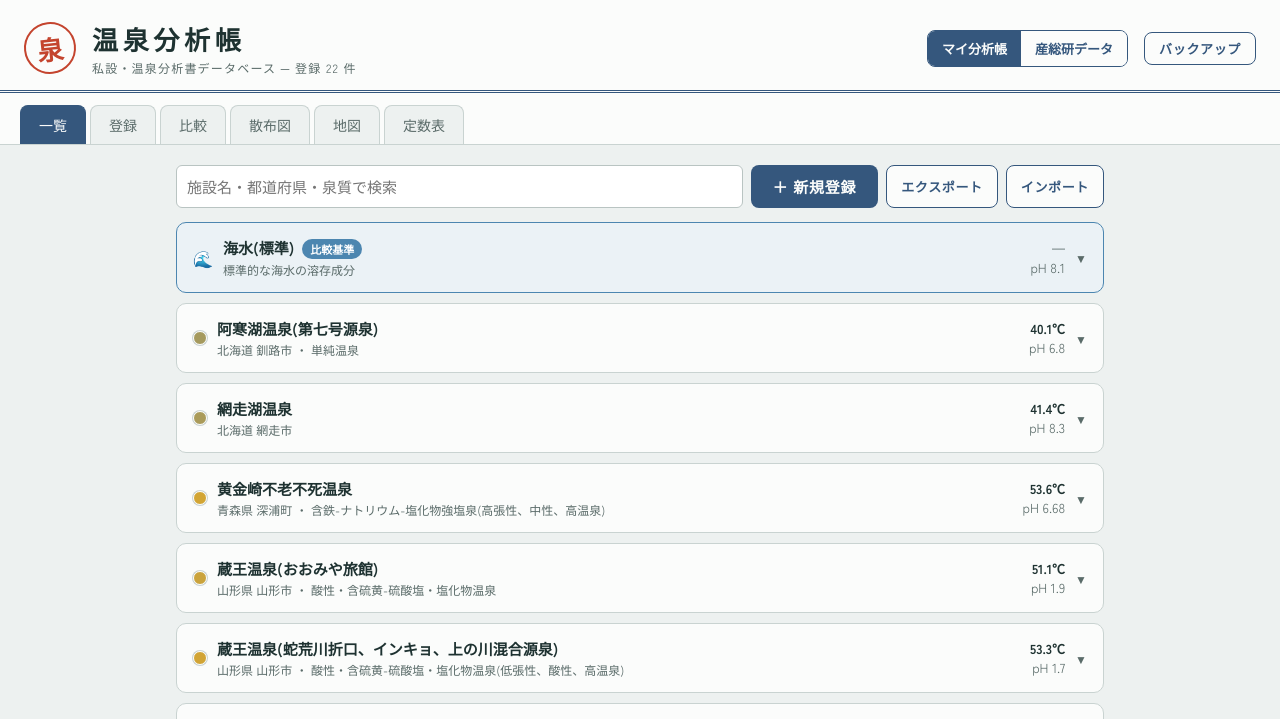
Test: 2軸比較の単位 › モル濃度で比べている旨を注記する
Click the button "散布図": (270, 124) [230,105,310,144]
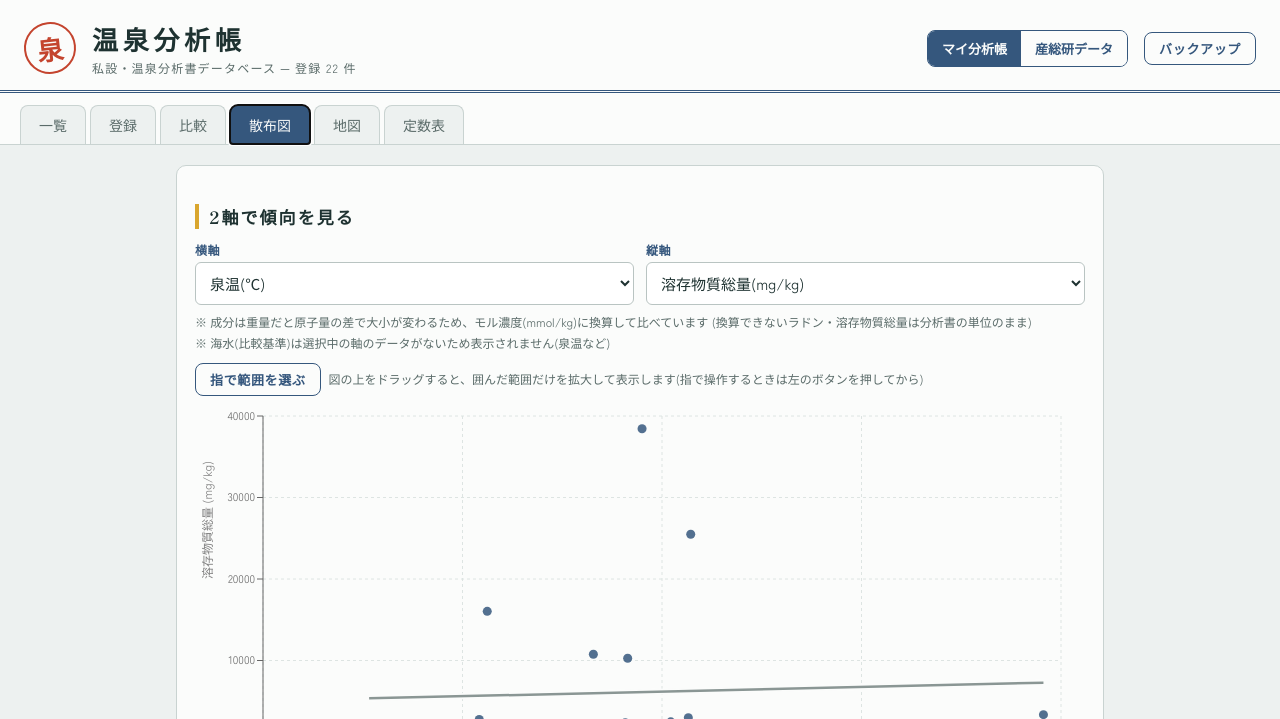
Check: the text "モル濃度(mmol/kg)に換算して比べています" is shown, box [195,313,1032,330]
